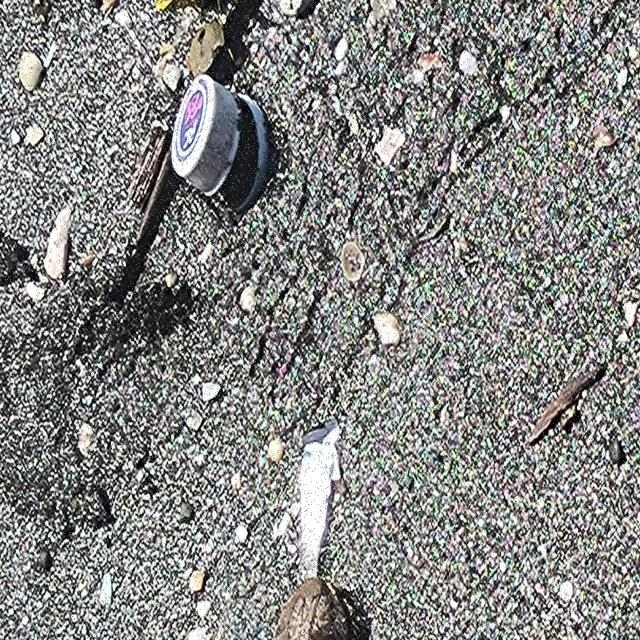plastic_waste: (171, 75, 243, 199)
